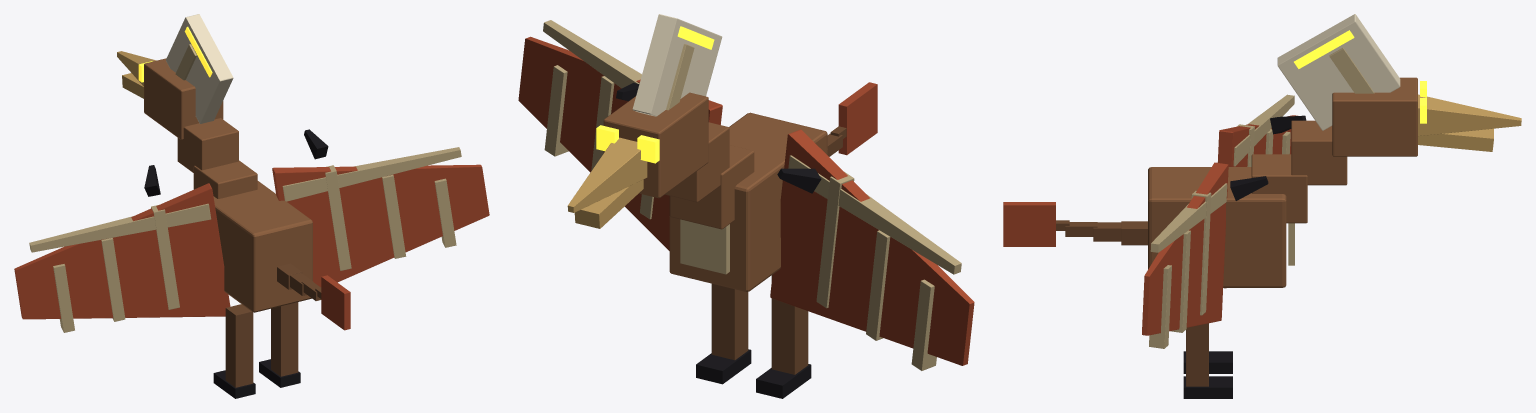
File: pterodactyl.glb
The picture shows the model from 3 angles, left to right: view 1: azimuth 30°, elevation 25°; view 2: azimuth 150°, elevation 25°; view 3: azimuth 270°, elevation 25°; orthographic projection. The views are drawn at different scales.
Visible parts, largest first — view 1: wing.R, wing.L, body, head, leg.FR, leg.FL, tail; view 2: wing.R, body, head, wing.L, leg.FL, leg.FR, tail; view 3: head, body, wing.L, tail, wing.R, leg.FL, leg.FR.
Part boxes in pixels (left/top/right/bottom): wing.R: left=14, top=165, right=230, bottom=332; wing.L: left=272, top=129, right=489, bottom=287; body: left=177, top=118, right=312, bottom=312; head: left=117, top=14, right=233, bottom=139; leg.FR: left=213, top=304, right=255, bottom=398; leg.FL: left=259, top=302, right=300, bottom=387; tail: left=277, top=263, right=350, bottom=330; wing.R: left=770, top=129, right=974, bottom=370; body: left=665, top=112, right=827, bottom=291; head: left=567, top=14, right=722, bottom=228; wing.L: left=518, top=20, right=722, bottom=250; leg.FL: left=696, top=283, right=751, bottom=384; leg.FR: left=756, top=275, right=811, bottom=398; tail: left=827, top=82, right=877, bottom=156; head: left=1277, top=14, right=1521, bottom=156; body: left=1148, top=120, right=1347, bottom=287; wing.L: left=1142, top=162, right=1268, bottom=348; tail: left=1003, top=202, right=1147, bottom=246; wing.R: left=1217, top=94, right=1306, bottom=288; leg.FL: left=1183, top=323, right=1232, bottom=398; leg.FR: left=1183, top=351, right=1232, bottom=373.
Bounding box in the file's own units: 1.34 × 1 × 1.29.
